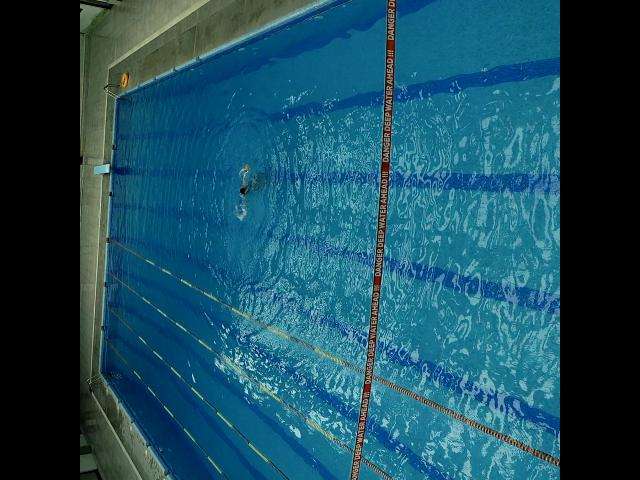drowning: (235, 161, 269, 216)
